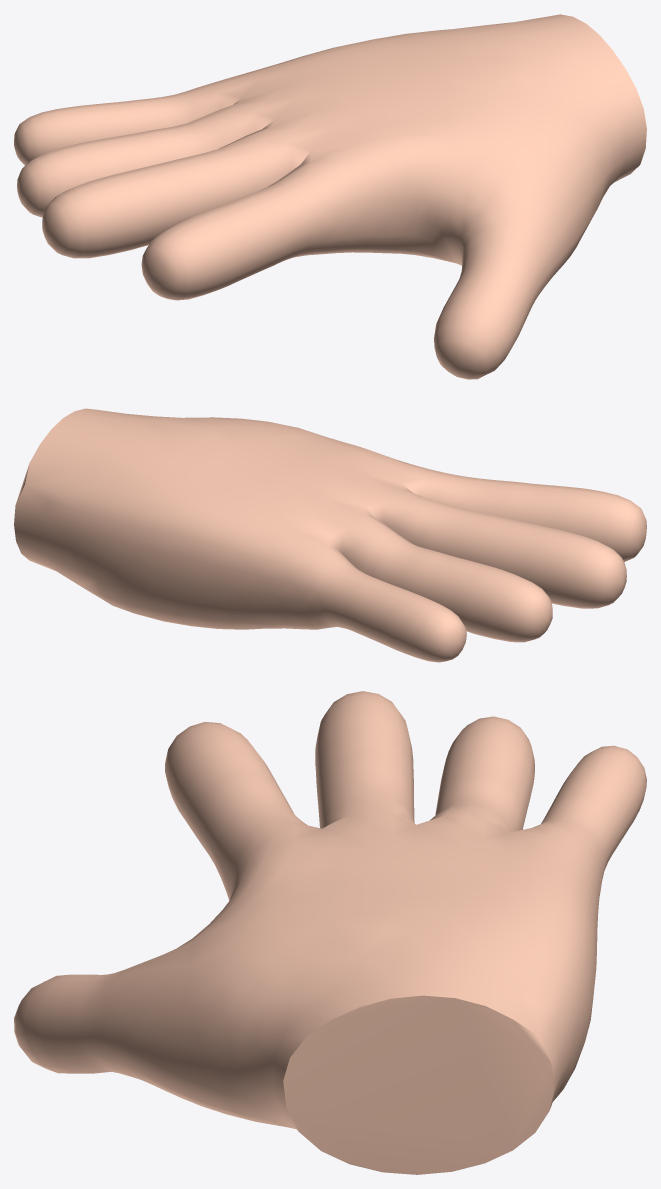
Rendered from Hand_Man_R_01.fbx.
3 renders of one model, top to bottom at view 1: azimuth 30°, elevation 25°; view 2: azimuth 150°, elevation 25°; view 3: azimuth 270°, elevation 25°, orthographic. The views are drawn at different scales.
Parts seen in each view (by area): view 1: Hand_Man_R_01; view 2: Hand_Man_R_01; view 3: Hand_Man_R_01.
Boxes of the visible parts, x1,y1,x2,y2 form: Hand_Man_R_01: (14,14,646,379); Hand_Man_R_01: (14,408,646,662); Hand_Man_R_01: (14,691,646,1174).
Size of the model in its own units: 0.4733 by 0.1471 by 0.3624.
